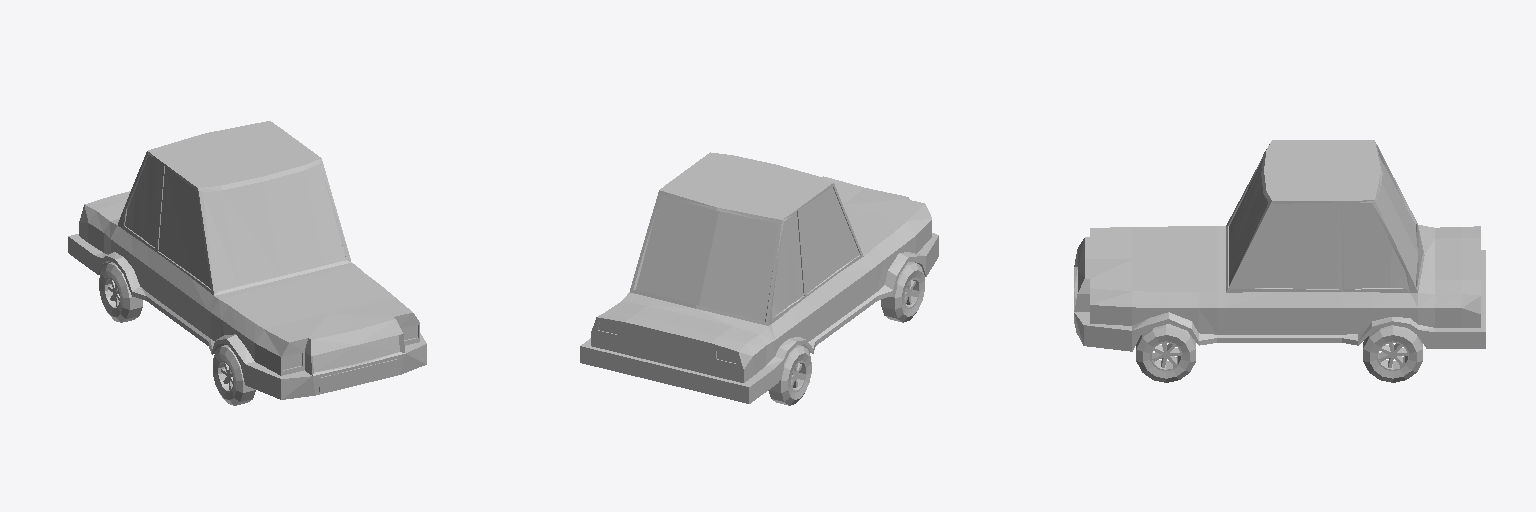
File: car_03.obj
The picture shows the model from 3 angles: view 1: azimuth 30°, elevation 25°; view 2: azimuth 150°, elevation 25°; view 3: azimuth 270°, elevation 25°; orthographic projection.
Parts seen in each view (by area): view 1: car_Cube.001; view 2: car_Cube.001; view 3: car_Cube.001.
Part boxes in pixels (x1,y1,x2,y2): car_Cube.001: (68, 121, 426, 405); car_Cube.001: (580, 152, 938, 405); car_Cube.001: (1074, 140, 1485, 382).
Size of the model in its own units: 1.49 by 1.38 by 3.01.